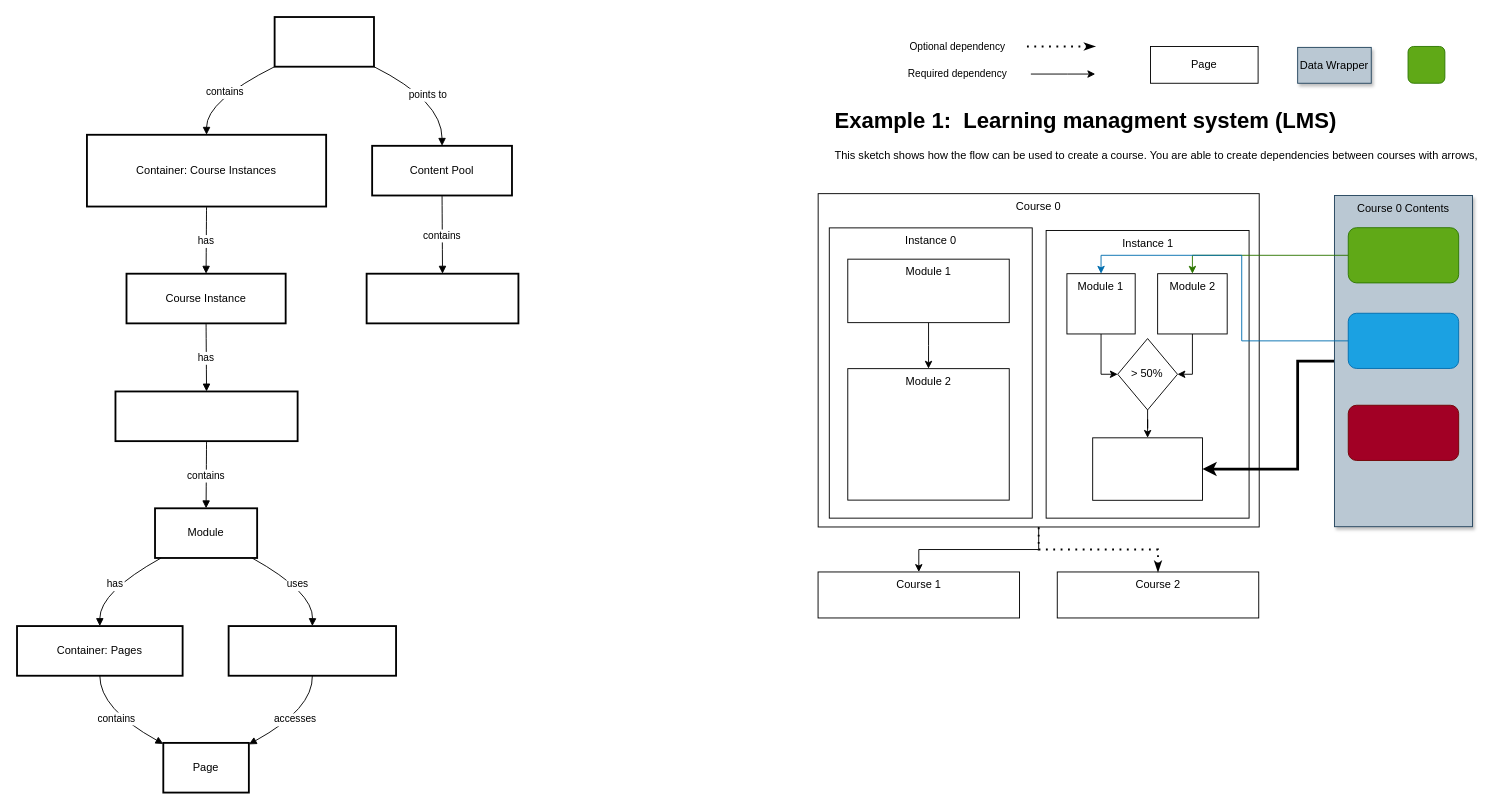
The diagram is 1501 pixels wide and 809 high, and some of its shapes have lost their labels. Here are the shapes that lost their labels. From the top down, the centre of each, then its label:
At (x=323, y=41): "Course".
At (x=1426, y=64): "Data".
At (x=1403, y=255): "Content 1".
At (x=442, y=298): "Content Nodes".
At (x=1403, y=340): "Content 2".
At (x=206, y=416): "Container: Modules".
At (x=1403, y=432): "Content 3".
At (x=1147, y=468): "Module 3".
At (x=312, y=650): "Block Generators".
